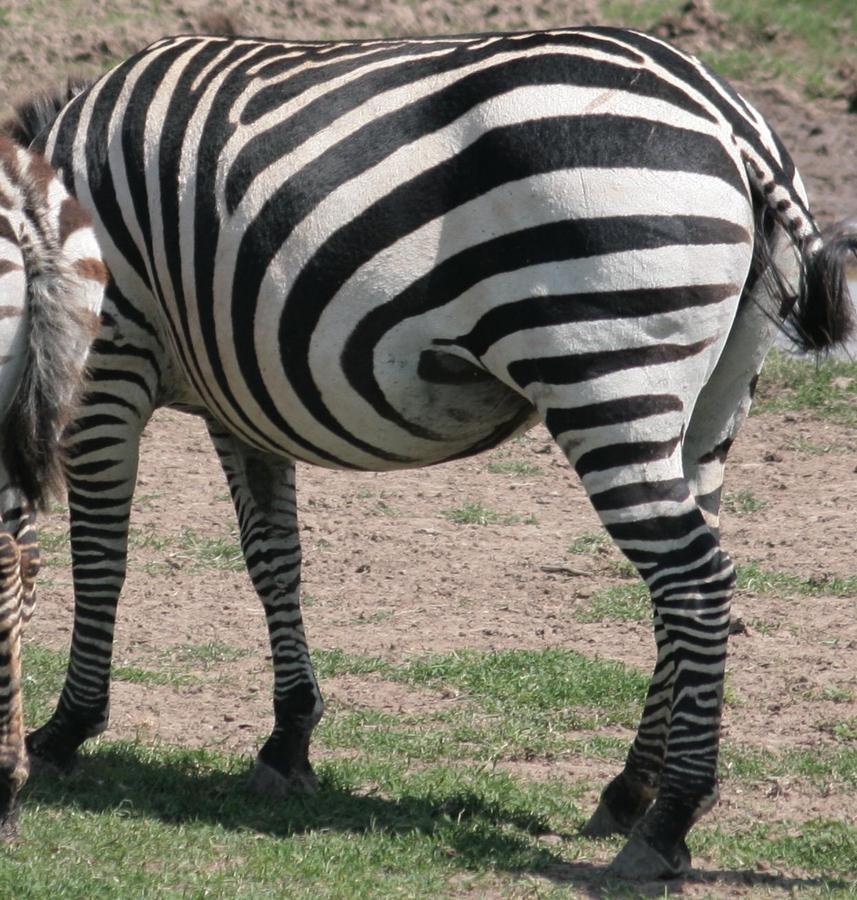zebra_plains: (23, 5, 756, 499)
